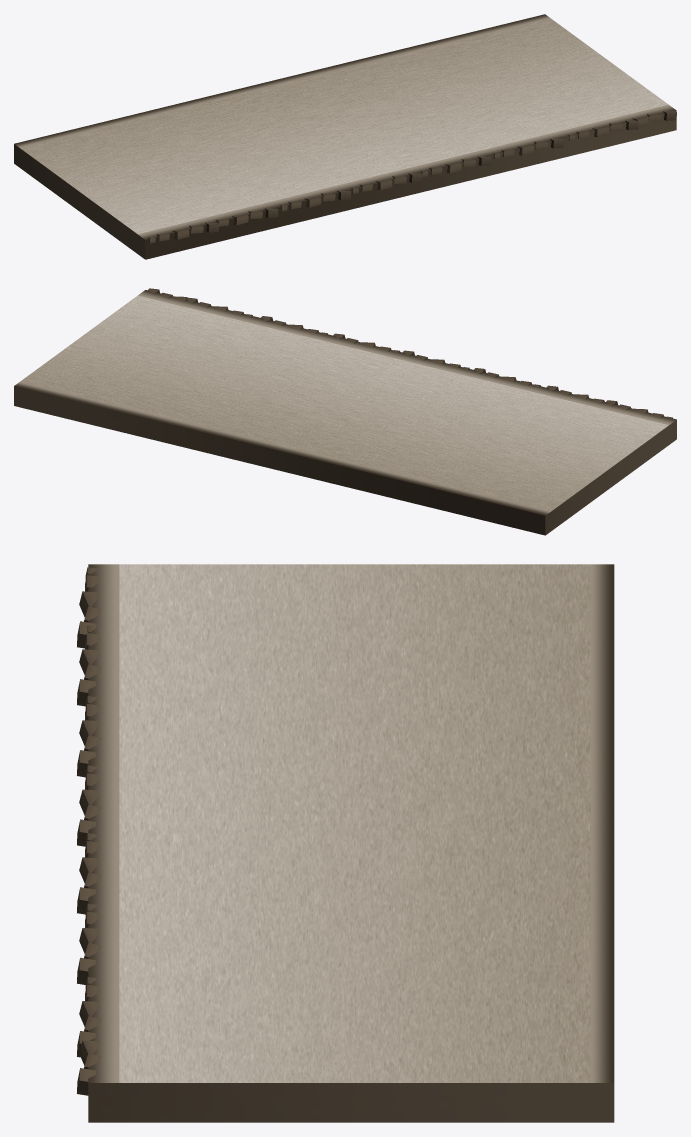
Rendered from RoadHalf.fbx.
3 renders of one model, top to bottom at view 1: azimuth 30°, elevation 25°; view 2: azimuth 150°, elevation 25°; view 3: azimuth 270°, elevation 25°, orthographic. The views are drawn at different scales.
Parts seen in each view (by area): view 1: pasted__pCube17; view 2: pasted__pCube17; view 3: pasted__pCube17.
Part boxes in pixels (bbox=[...]): pasted__pCube17: bbox=[14, 14, 676, 259]; pasted__pCube17: bbox=[14, 288, 676, 535]; pasted__pCube17: bbox=[77, 564, 614, 1122].
Size of the model in its own units: 14 by 0.5437 by 6.13.
